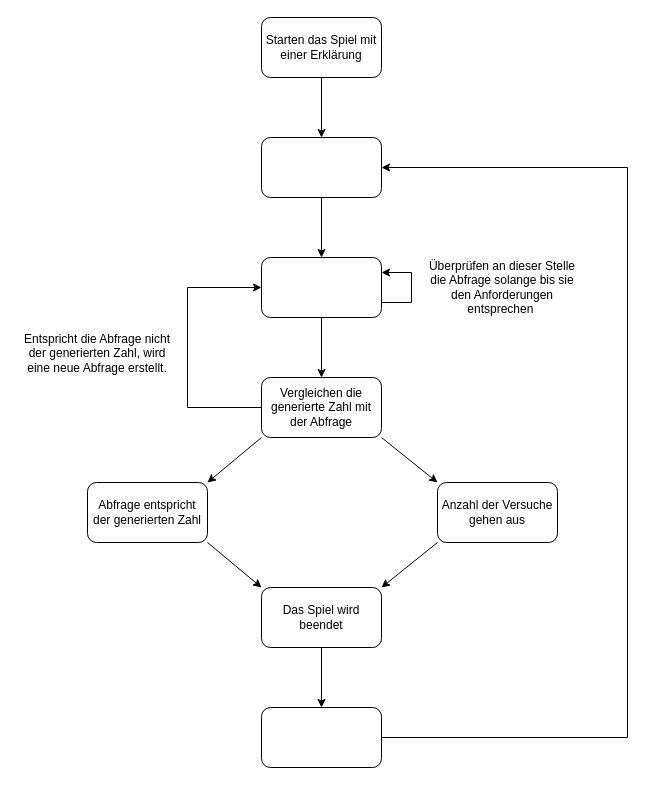
Some shapes in this 653 by 785 pixel diagram are drawn without their labels. Here are the shapes that lost their labels. From the top down, the box of each, then its label:
(260, 136, 382, 198): Generieren eine drei-stellige Zahl
(260, 256, 382, 318): Abfrage nach einer drei-stelligen Zahl vom Spieler
(260, 706, 382, 768): Anfrage zur neuen Runde wird erstellt
